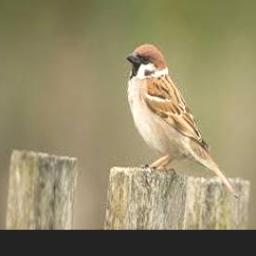Sparrow: (126, 43, 238, 199)
